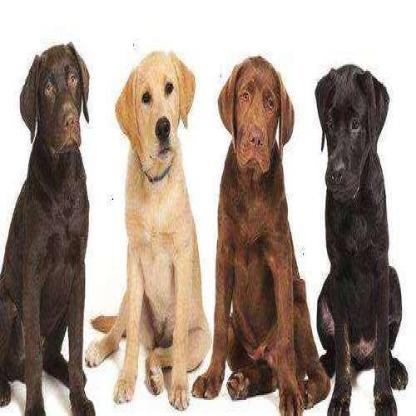Labarador Retriever: (188, 59, 327, 415), (87, 47, 207, 404), (0, 37, 93, 416), (316, 66, 410, 416)
